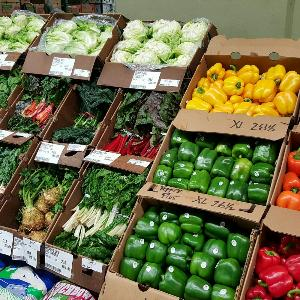bell_pepper: (121, 194, 246, 300), (157, 120, 274, 202), (188, 51, 299, 121), (264, 124, 300, 232), (252, 226, 300, 300)
